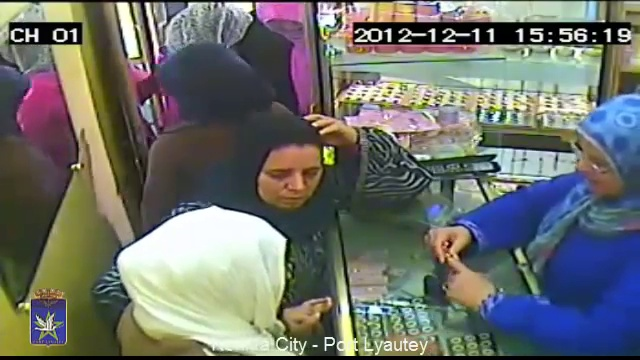face: (255, 153, 321, 211), (575, 144, 620, 195)
